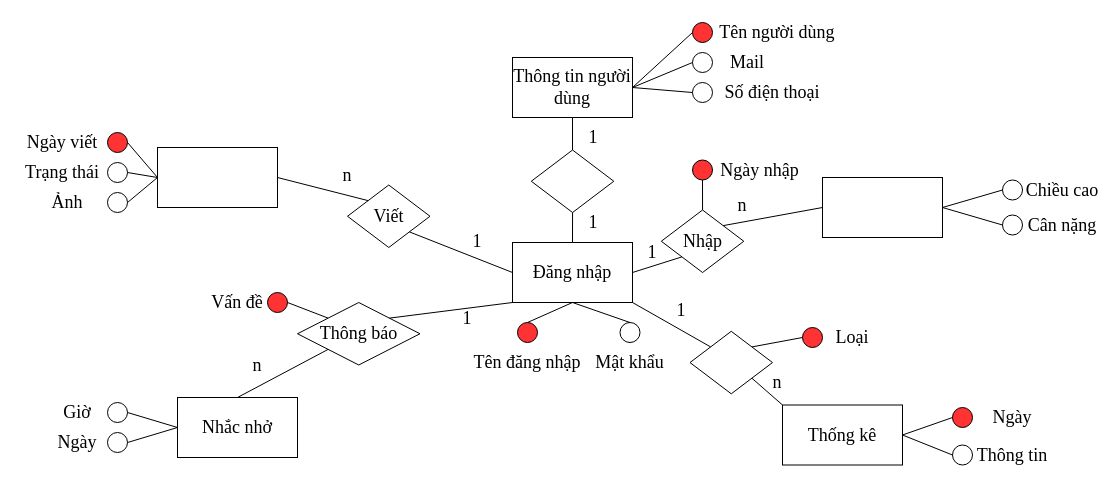
Some shapes in this 1119 by 487 pixel diagram are drawn without their labels. The box of each missing label's shape, as (x1, y1, x2, y2) in pixels:
Chỉ số: (822, 176, 942, 238)
Có: (530, 149, 614, 212)
Nhật kí: (156, 146, 278, 208)
Tạo: (689, 330, 772, 394)
